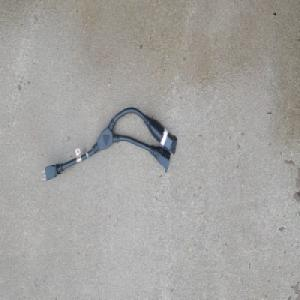Wire: (39, 104, 177, 182)
